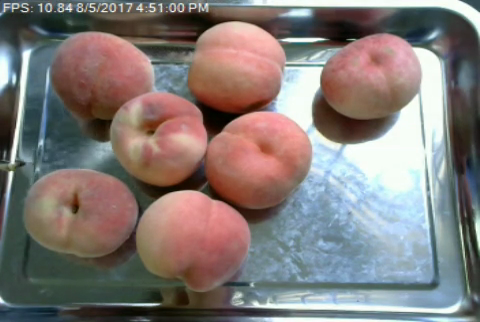Peach: (135, 190, 247, 290), (24, 168, 138, 258), (206, 111, 309, 210), (107, 89, 209, 187), (51, 30, 153, 121), (319, 31, 422, 120), (187, 20, 284, 113)
